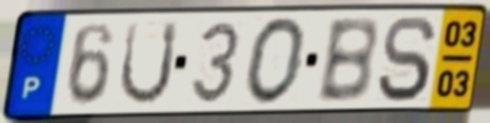3: (186, 19, 244, 107)
6: (65, 20, 116, 108)
B: (314, 14, 381, 105)
O: (243, 15, 310, 108)
S: (374, 13, 440, 105)
U: (115, 19, 182, 109)
